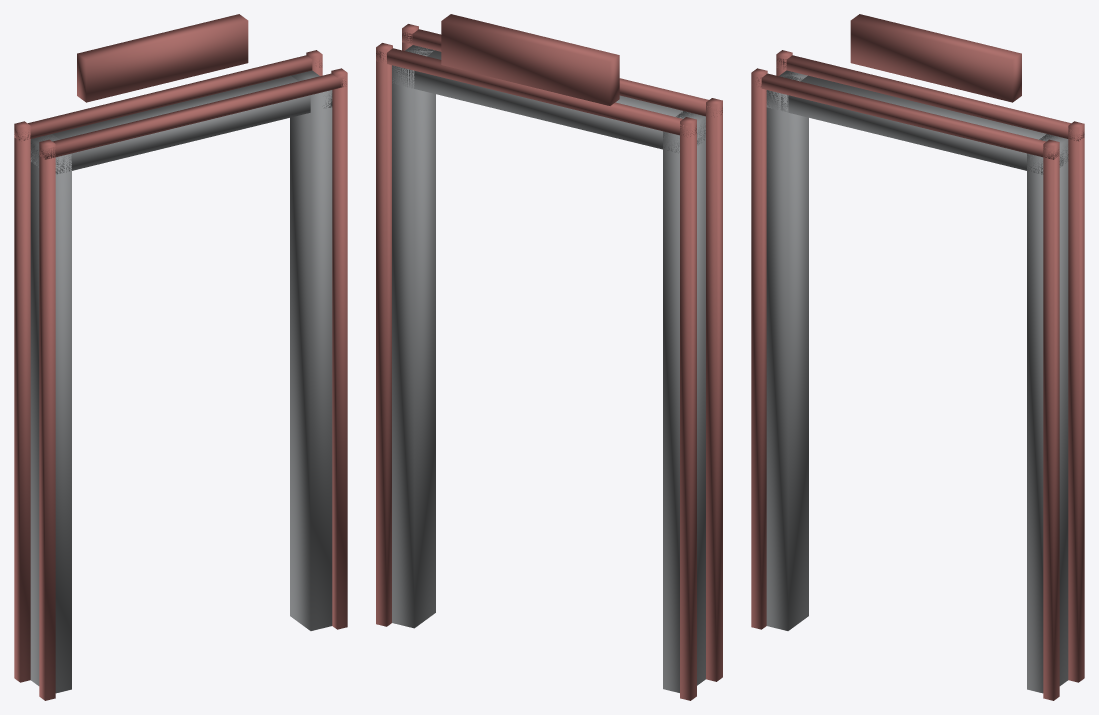
File: doorway_emergency_exit_w106_h220_d16.glb
3 renders of one model, left to right at view 1: azimuth 30°, elevation 25°; view 2: azimuth 150°, elevation 25°; view 3: azimuth 330°, elevation 25°, orthographic. The views are drawn at different scales.
Parts seen in each view (by area): view 1: world; view 2: world; view 3: world.
Part boxes in pixels (x1=…): world: x1=14, y1=14, x2=347, y2=700; world: x1=376, y1=14, x2=722, y2=700; world: x1=751, y1=14, x2=1084, y2=700.
Bounding box in the file's own units: 1.34 × 2.56 × 0.2939.
